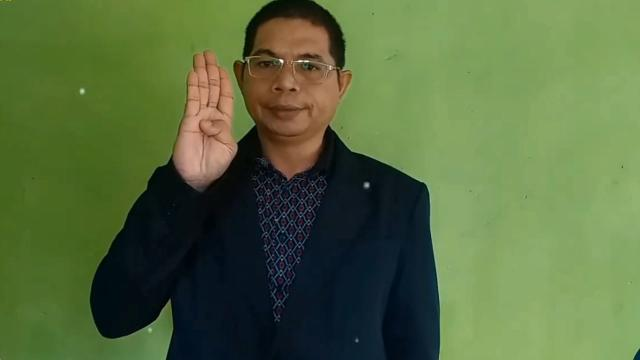B: (178, 48, 238, 182)
